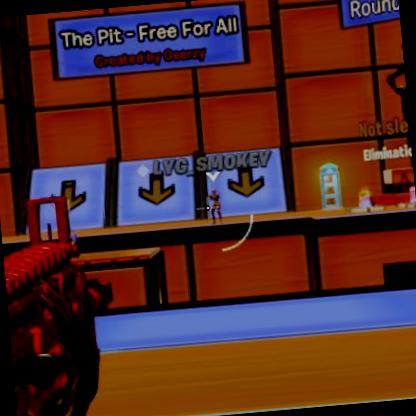person: (207, 186, 224, 223)
